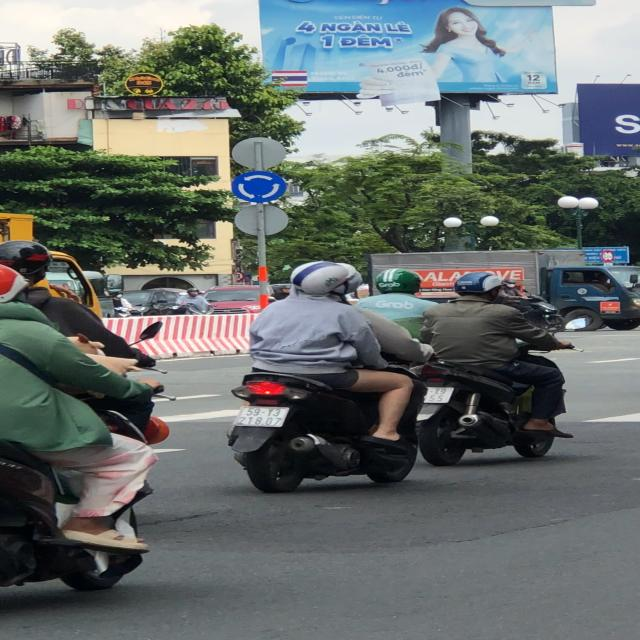Bien bao noi giao nhau chay theo vong xuyen: (226, 168, 288, 204)
